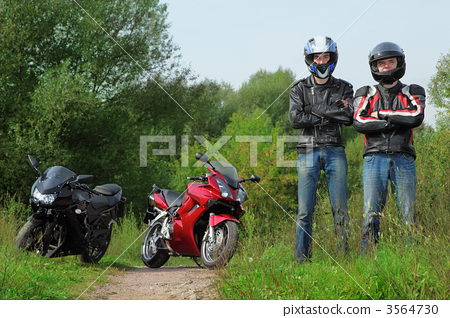helmet: (364, 38, 416, 88), (298, 31, 343, 77)
